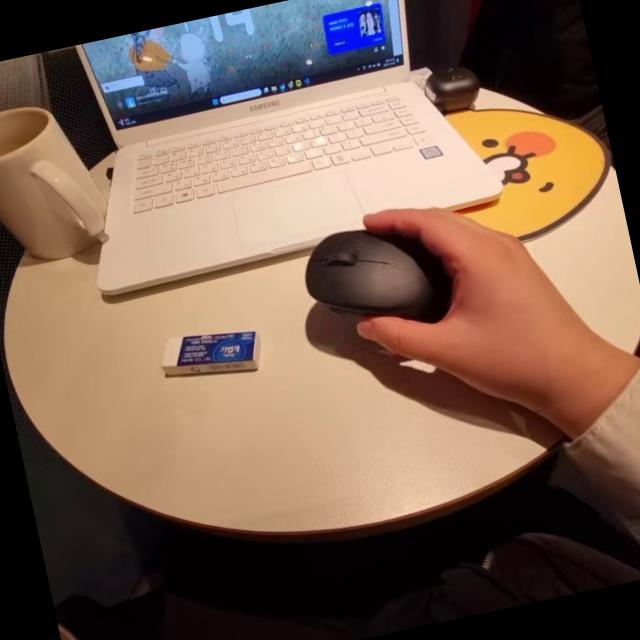eraser: (154, 317, 280, 385)
grab_mouse: (284, 167, 594, 430)
hand: (355, 167, 587, 395)
mouse: (290, 198, 448, 330)
